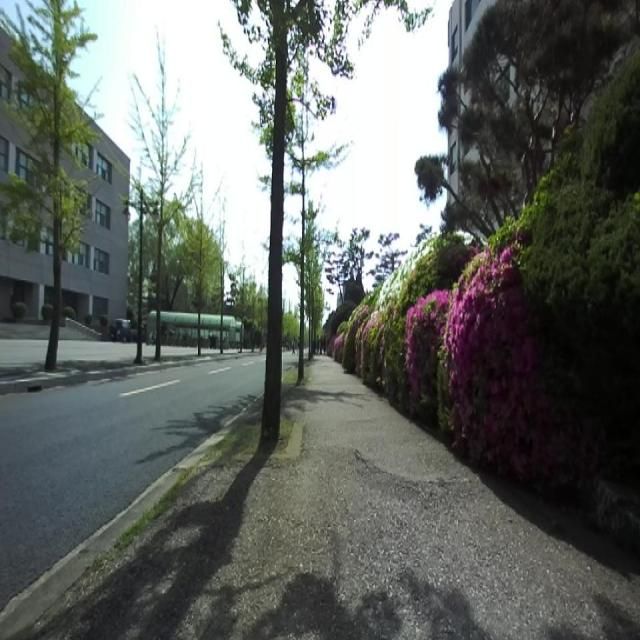sidewalk: (0, 355, 640, 639)
